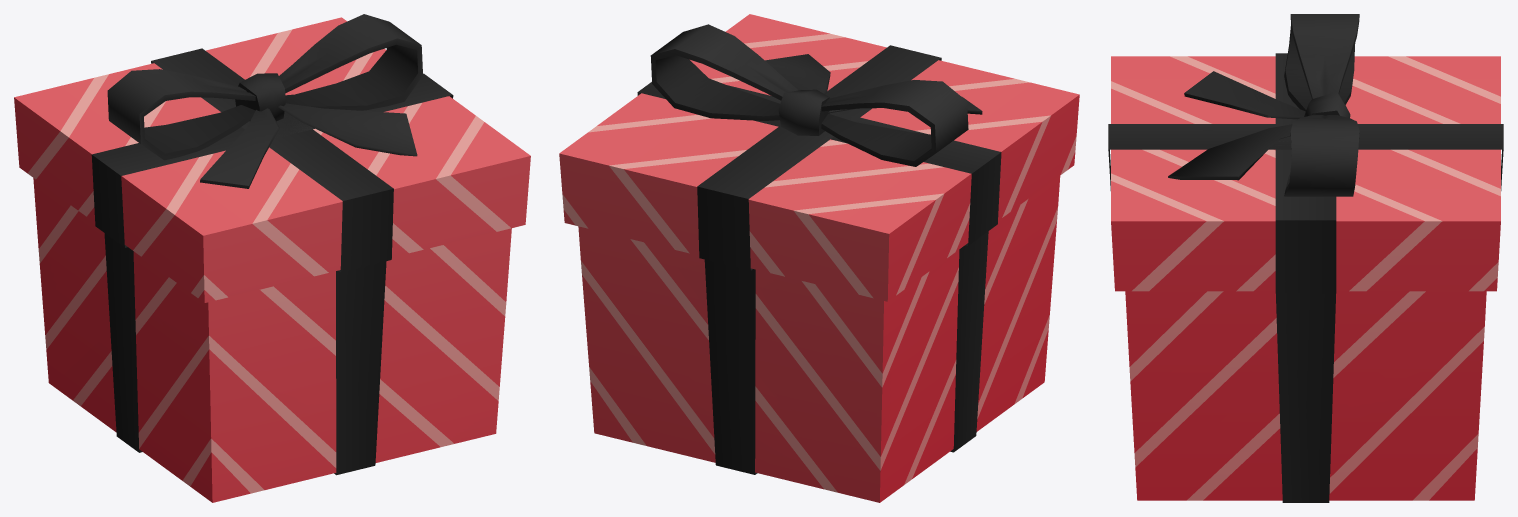
Rendered from CRvalentines_Giftbox_002.FBX.
3 renders of one model, left to right at view 1: azimuth 30°, elevation 25°; view 2: azimuth 150°, elevation 25°; view 3: azimuth 270°, elevation 25°, orthographic. The views are drawn at different scales.
Parts seen in each view (by area): view 1: CRvalentines_Giftbox_002; view 2: CRvalentines_Giftbox_002; view 3: CRvalentines_Giftbox_002.
Boxes of the visible parts, x1,y1,x2,y2 form: CRvalentines_Giftbox_002: [14, 14, 530, 502]; CRvalentines_Giftbox_002: [559, 14, 1079, 502]; CRvalentines_Giftbox_002: [1108, 14, 1503, 502].
Bounding box in the file's own units: 18.49 × 18.51 × 18.49.
